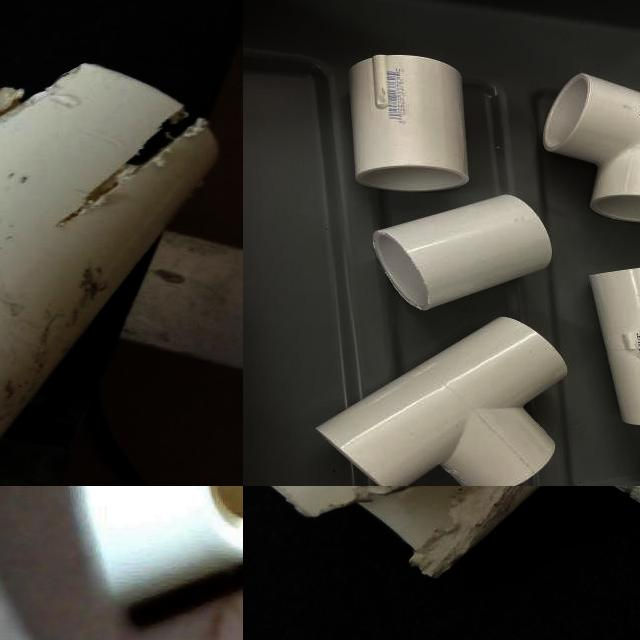Defective: (62, 111, 207, 224), (4, 80, 63, 115), (0, 87, 30, 129)
L Joint: (543, 74, 640, 226)
T Joint: (0, 64, 221, 446), (317, 317, 569, 486), (66, 486, 243, 630), (586, 268, 640, 429)
